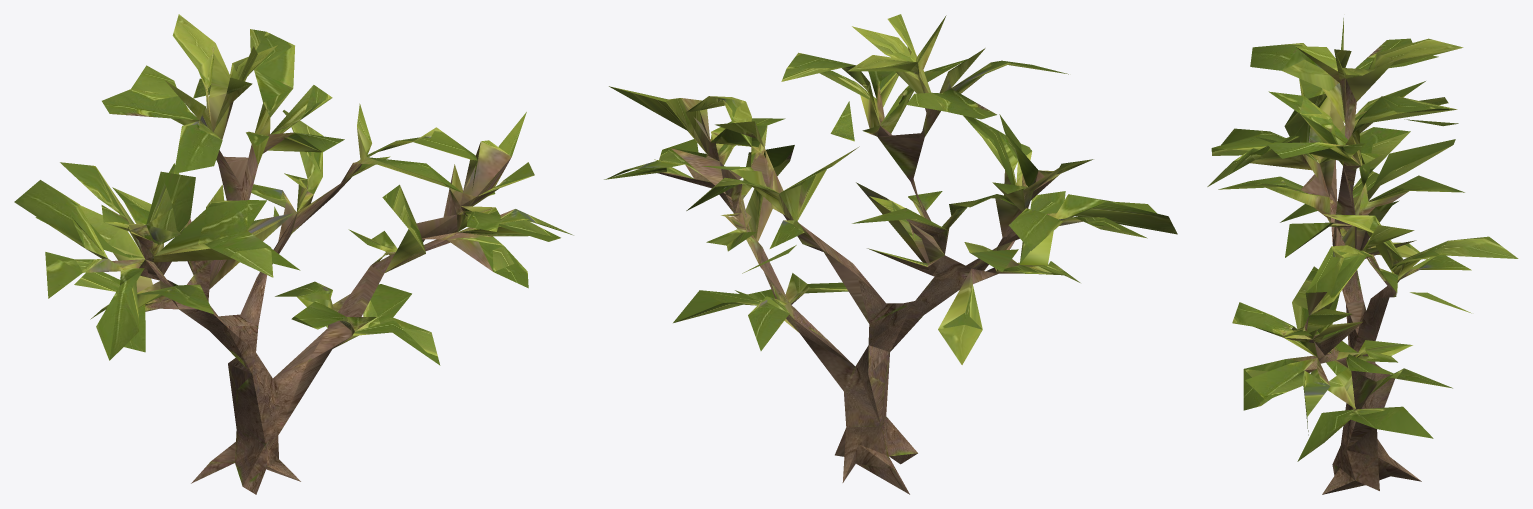
The model's file is co_broadleaf_shrub_lod1.glb.
The picture shows the model from 3 angles, left to right: view 1: azimuth 30°, elevation 25°; view 2: azimuth 150°, elevation 25°; view 3: azimuth 270°, elevation 25°; orthographic projection. The views are drawn at different scales.
Visible parts, largest first — view 1: mesh; view 2: mesh; view 3: mesh.
Part boxes in pixels (x1=…): mesh: x1=14, y1=14, x2=573, y2=494; mesh: x1=604, y1=14, x2=1177, y2=494; mesh: x1=1207, y1=18, x2=1518, y2=494.
Bounding box in the file's own units: 1.73 × 1.38 × 0.8954.
Materials: 1 (1 with a texture image).
